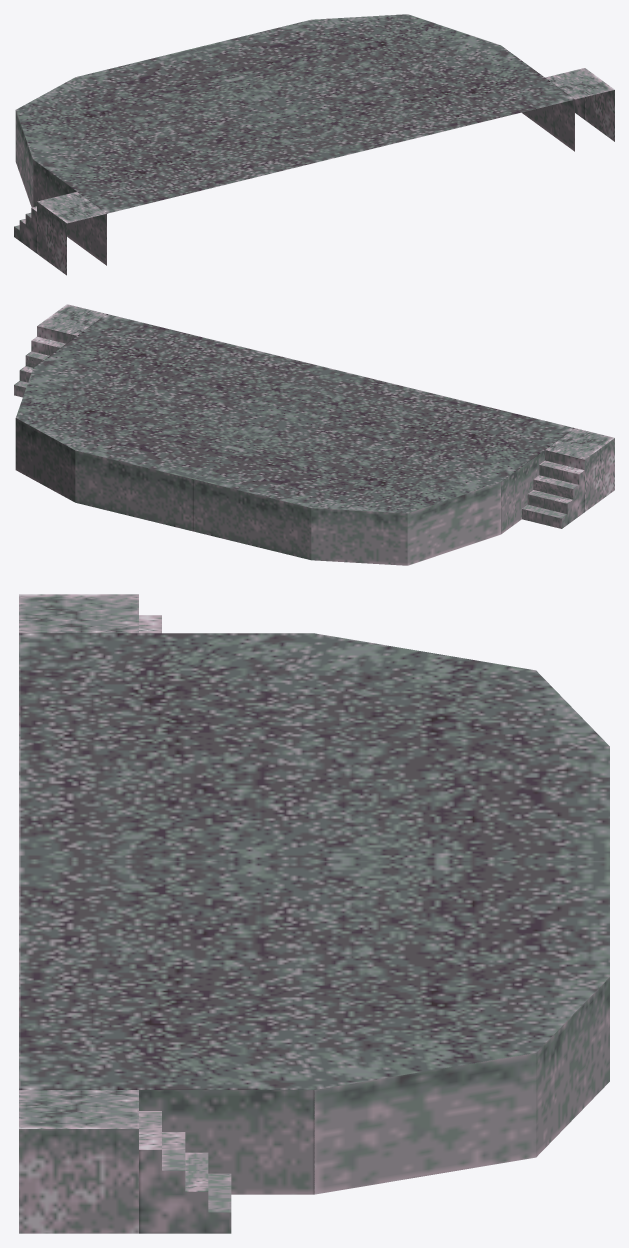
File: Stage.fbx
3 renders of one model, top to bottom at view 1: azimuth 30°, elevation 25°; view 2: azimuth 150°, elevation 25°; view 3: azimuth 270°, elevation 25°, orthographic. The views are drawn at different scales.
Visible parts, largest first — view 1: Cube.005; view 2: Cube.005; view 3: Cube.005.
Part boxes in pixels (bbox=[...]): Cube.005: bbox=[14, 14, 614, 275]; Cube.005: bbox=[14, 304, 614, 565]; Cube.005: bbox=[19, 594, 609, 1233].
Bounding box in the file's own units: 1712 × 156 × 800.
